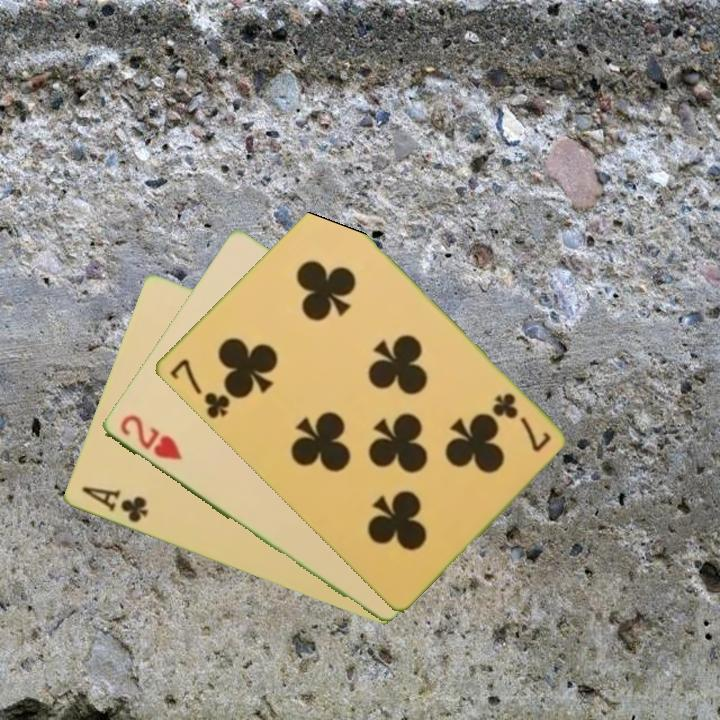2h: (115, 411, 185, 464)
7c: (165, 355, 232, 422), (488, 389, 553, 455)
Ac: (78, 483, 151, 526)
